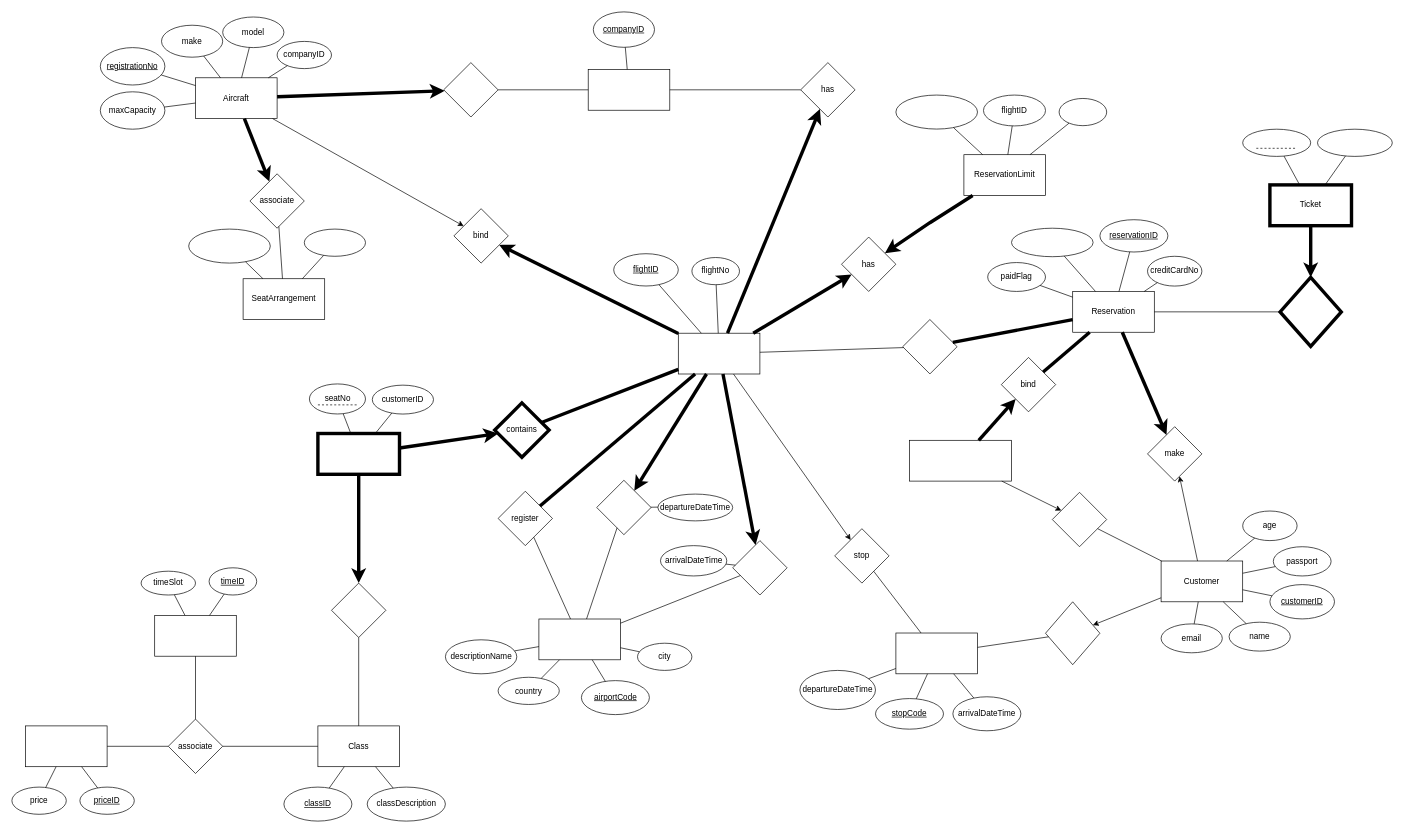
Some shapes in this 1404 by 833 pixel diagram are drawn without their labels. The box of each missing label's shape, as (x1, y1, x2, y2) in pixels:
Airport: (538, 618, 620, 660)
arrive: (732, 540, 787, 595)
cancel: (1052, 492, 1107, 547)
CancellableReservation: (909, 440, 1012, 481)
categorized: (331, 582, 386, 638)
Company: (588, 69, 670, 110)
depart: (596, 480, 651, 535)
Flight: (678, 333, 760, 374)
IntermediateStop: (895, 632, 978, 674)
limit: (1058, 98, 1107, 126)
own: (443, 62, 498, 117)
reservation-payment: (1278, 275, 1343, 348)
reservationLimitID: (895, 94, 978, 129)
reserve: (902, 319, 957, 374)
reservedDateTime: (1011, 228, 1093, 257)
Seat: (316, 431, 401, 476)
seatArrangementID: (188, 228, 270, 263)
seatMap: (304, 228, 366, 256)
ticketNo: (1242, 129, 1311, 156)
TicketPrice: (25, 725, 107, 767)
Time: (154, 615, 236, 656)
transfer flight: (1045, 601, 1100, 665)
validness: (1317, 129, 1392, 156)
